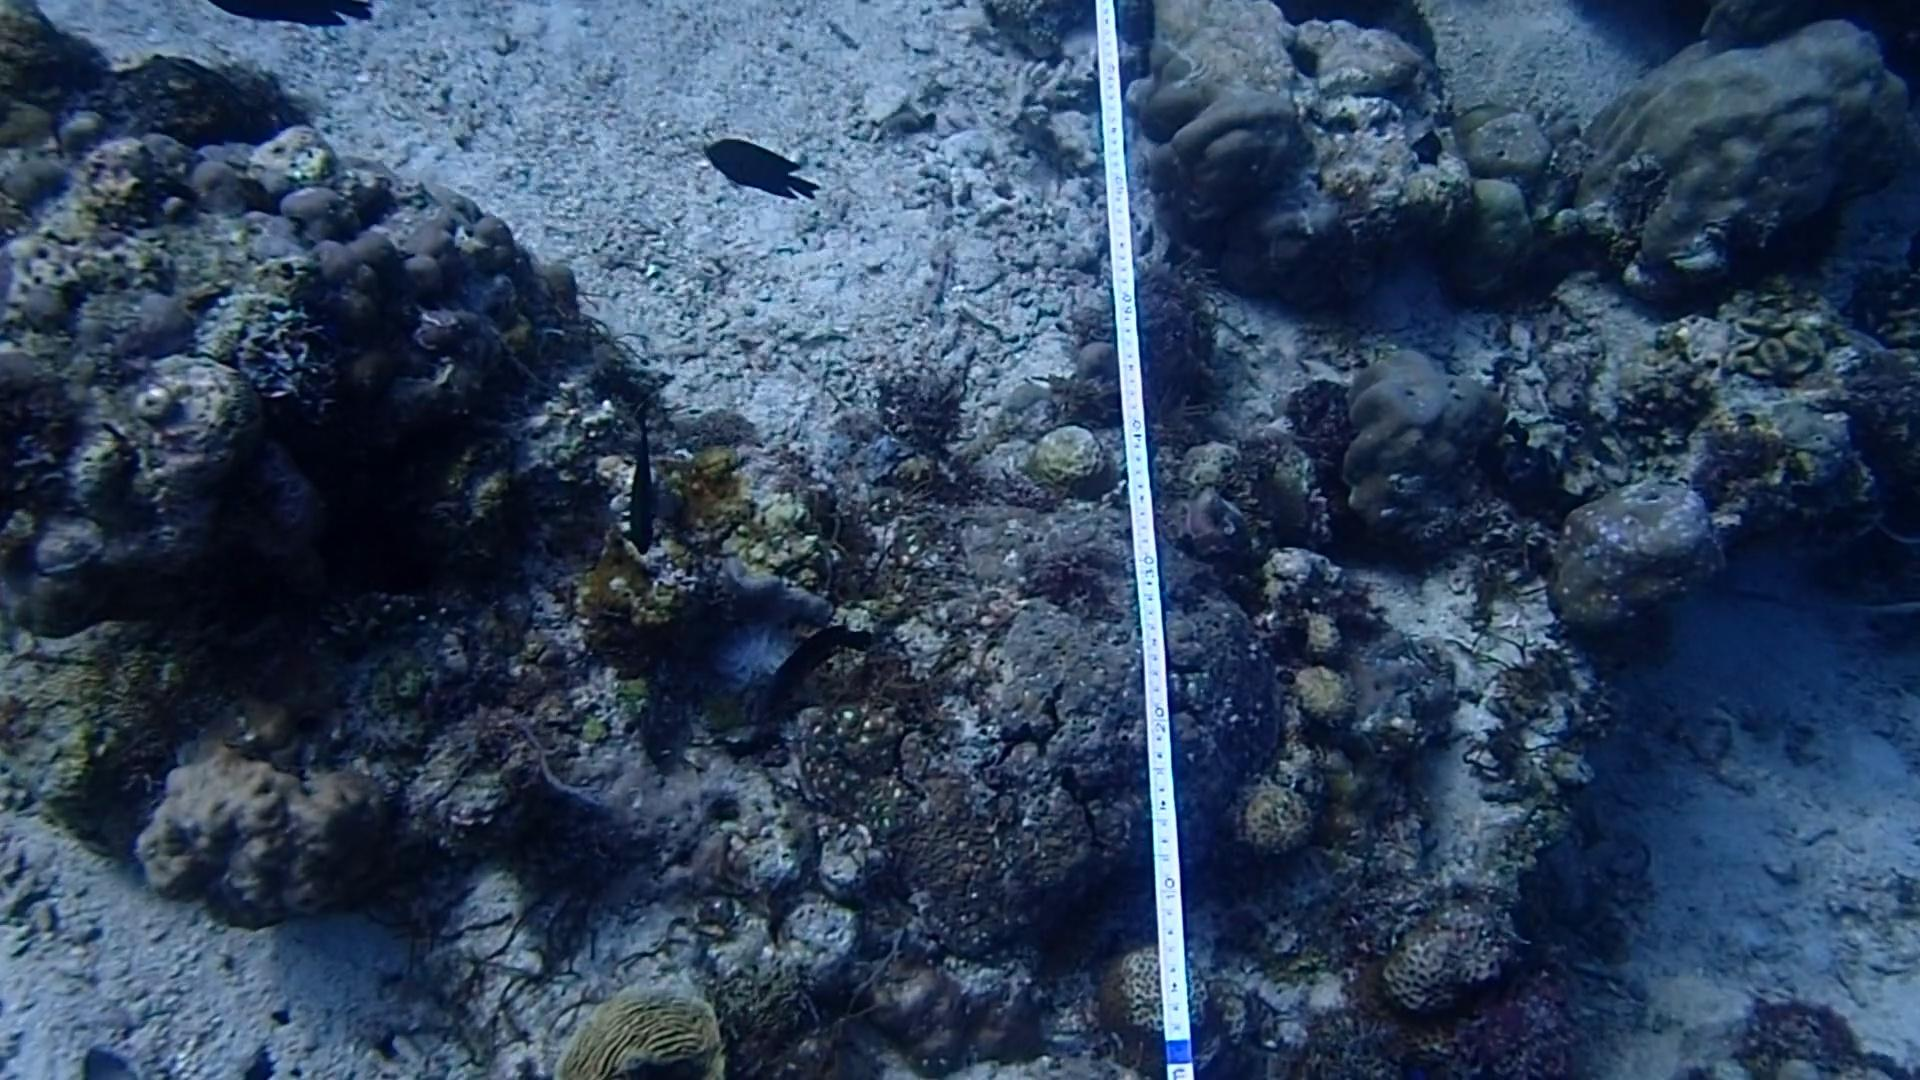Dark Fish: (686, 115, 823, 212), (748, 611, 872, 703), (607, 394, 662, 555), (194, 0, 386, 36)
